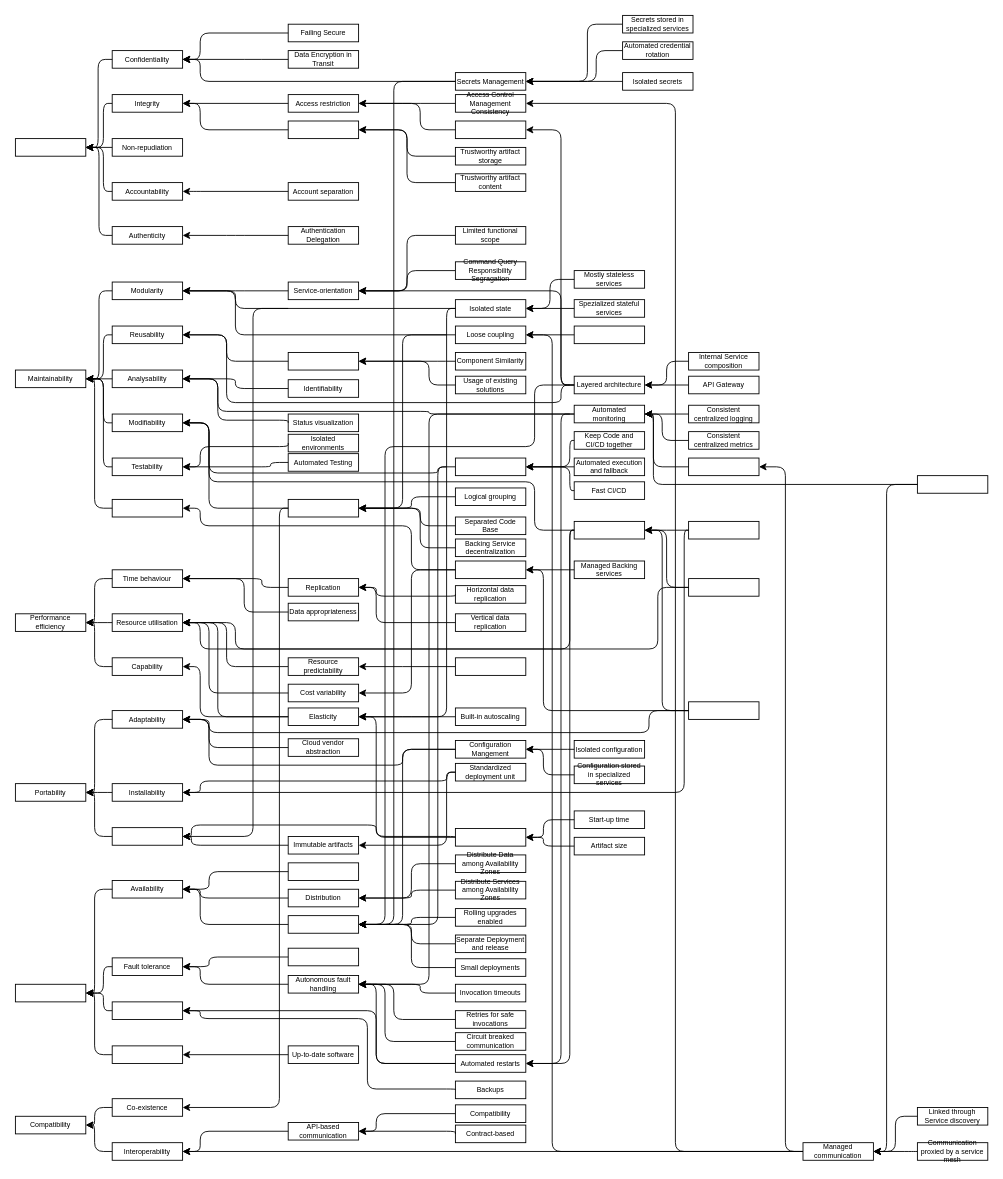
Image size: 1003x1179. Some labels were removed from this diagram. Here are the shapes that lost their labels. From the top down, the centre of each, then its label:
At pixel 50 147: "Security".
At pixel 323 129: "Artifact trustworthiness".
At pixel 490 129: "Least-Privileged Access".
At pixel 609 334: "Asynchronous communication".
At pixel 323 361: "Standardization".
At pixel 490 466: "Automated Continuous Delivery".
At pixel 723 466: "Distributed tracing of invocations".
At pixel 952 484: "Health and readiness checks".
At pixel 147 508: "Simplicity".
At pixel 323 508: "Service independence".
At pixel 609 530: "Automated Infrastructure".
At pixel 723 530: "Use Infrastructure as Code".
At pixel 490 569: "Operation outsourcing".
At pixel 723 587: "Dynamic Scheduling".
At pixel 490 666: "Resource limits".
At pixel 723 710: "Infrastructure abstraction".
At pixel 147 836: "Replaceabiltiy".
At pixel 490 837: "Ease of Deployment".
At pixel 323 871: "Guarded ingress".
At pixel 323 924: "Seamless upgrades".
At pixel 323 956: "Failing safe".
At pixel 50 992: "Reliability".
At pixel 147 1010: "Recoverability".
At pixel 147 1054: "Maturity".
